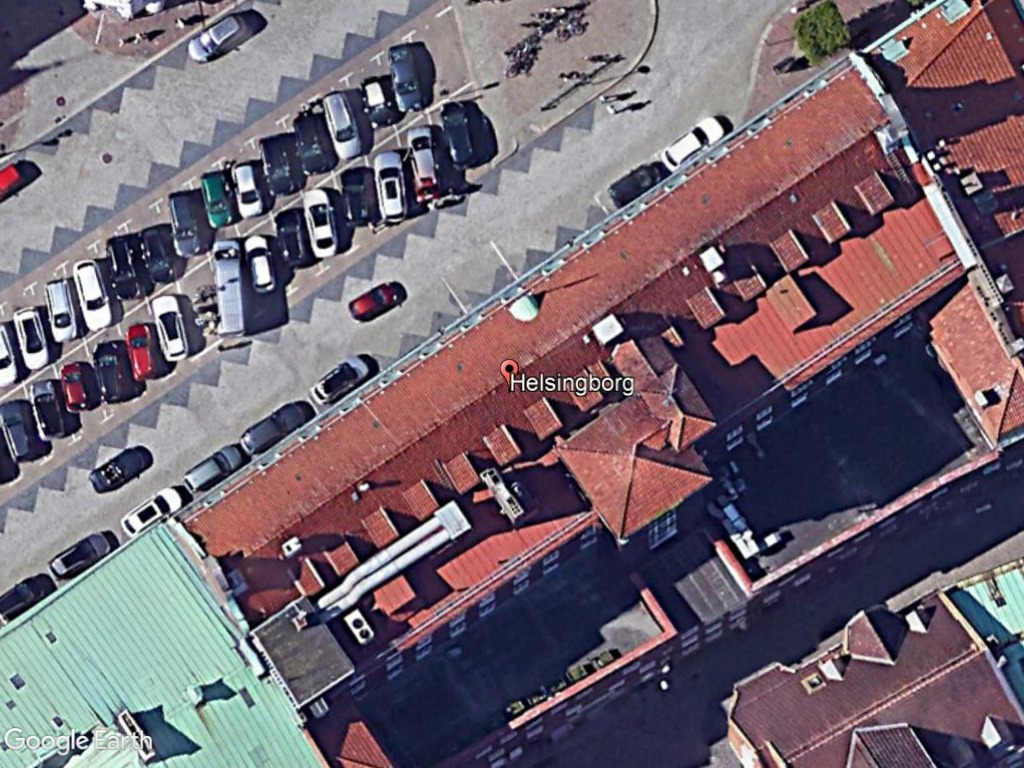car: (177, 437, 251, 498), (115, 482, 184, 544), (182, 7, 253, 66), (50, 523, 119, 583), (237, 399, 308, 457), (659, 113, 729, 171), (305, 351, 375, 406), (319, 87, 368, 163), (68, 255, 115, 332), (88, 440, 150, 497), (100, 233, 147, 307), (9, 303, 56, 375), (372, 147, 413, 228), (385, 41, 428, 117), (437, 98, 481, 172), (26, 371, 70, 445), (301, 187, 344, 261), (163, 189, 207, 261), (148, 293, 192, 364), (42, 276, 85, 346), (344, 277, 403, 326), (90, 337, 132, 405), (404, 124, 444, 193), (241, 228, 280, 297), (228, 157, 270, 220), (335, 164, 375, 230), (355, 75, 399, 134), (196, 170, 237, 231), (122, 319, 161, 381), (57, 359, 94, 415)
van: (209, 236, 253, 343)
